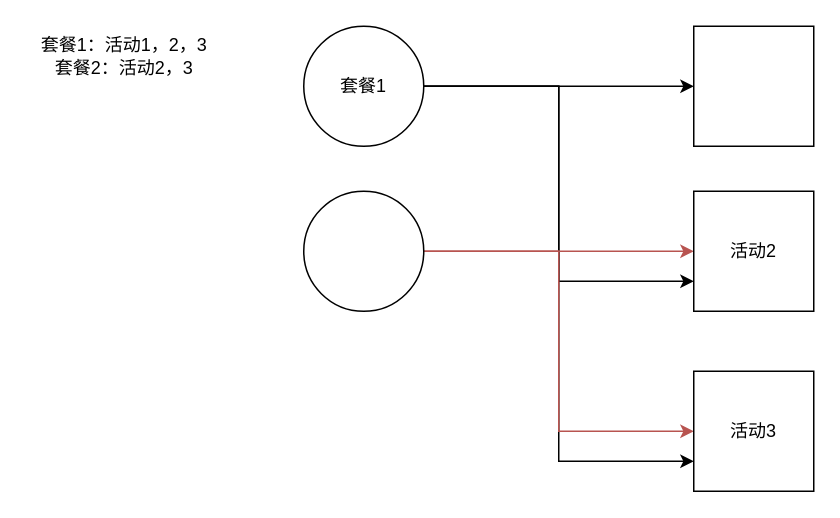
Some shapes in this 840 by 518 pixel diagram are drawn without their labels. Each missing label, with the box of its shape:
套餐2: (302, 190, 424, 311)
活动1: (692, 25, 814, 146)
